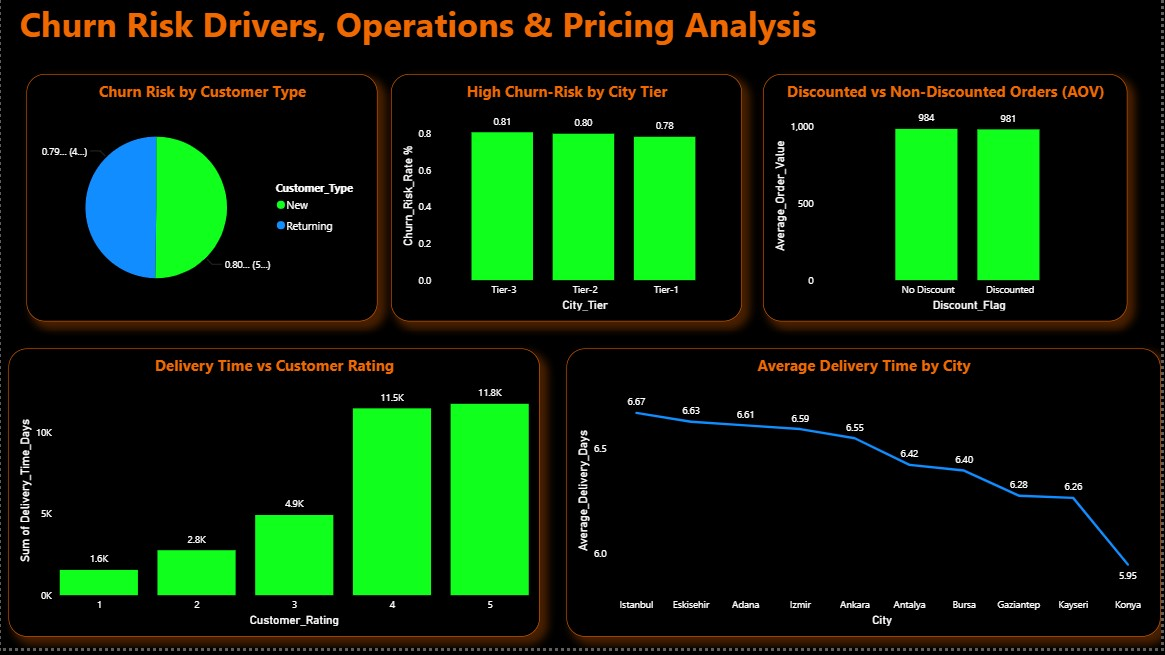

This screenshot's page, from the dashboard's own definition file:
{"tool":"powerbi","page":{"name":"Churn Risk Drivers, Operations & Pricing Analysis","canvas":[1440,810],"ordinal":2},"visuals":[{"type":"textbox","box":[9.3,0,1017.5,96.9],"z":0},{"type":"pieChart","title":"Churn Risk by Customer Type","fields":{"Category":["public customers.Customer_Type"],"Y":["public customers.Churn_Risk_Rate %"]},"box":[31.7,96.9,436.1,307.5],"z":1},{"type":"columnChart","title":"High Churn-Risk  by City Tier","fields":{"Category":["public customers.City_Tier"],"Y":["public customers.Churn_Risk_Rate %"]},"box":[484.5,96.9,436.1,307.5],"z":2},{"type":"lineChart","title":"Average Delivery Time by City","fields":{"Category":["public customers.City"],"Y":["public customers.Average_Delivery_Days"]},"box":[702.6,437.9,738,357.8],"z":3},{"type":"clusteredColumnChart","title":"Delivery Time vs Customer Rating","fields":{"Category":["public customers.Customer_Rating"],"Y":["Sum(public customers.Delivery_Time_Days)"]},"box":[9.3,437.9,659.7,357.8],"z":4},{"type":"columnChart","title":"Discounted vs Non-Discounted Orders (AOV)","fields":{"Category":["public customers.Discount_Flag"],"Y":["public customers.Average_Order_Value"]},"box":[946.7,96.9,452.8,307.5],"z":5}]}

Visuals, with their boxes in screenshot pixels (x1, y1, x2, y2), scaled from the page's 1440x810 canvas onto the 1165x655 screenshot:
textbox: box=[8, 0, 831, 78]
"Churn Risk by Customer Type" pieChart: box=[26, 78, 378, 327]
"High Churn-Risk  by City Tier" columnChart: box=[392, 78, 745, 327]
"Average Delivery Time by City" lineChart: box=[568, 354, 1164, 643]
"Delivery Time vs Customer Rating" clusteredColumnChart: box=[8, 354, 541, 643]
"Discounted vs Non-Discounted Orders (AOV)" columnChart: box=[766, 78, 1132, 327]
